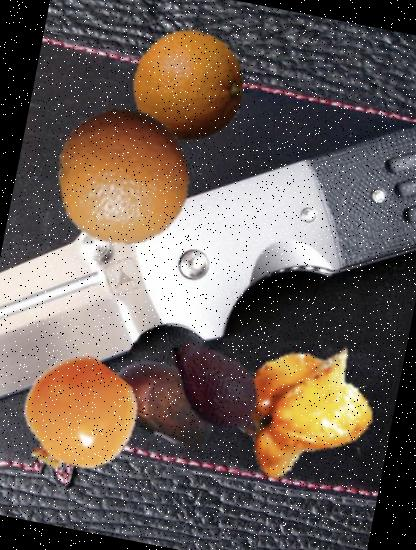Carambula: (216, 320, 392, 496)
Chestnut: (92, 328, 234, 470)
Orange: (42, 96, 203, 257), (123, 21, 254, 152)
Physalis: (5, 348, 146, 489)
Salak: (146, 318, 288, 460)
